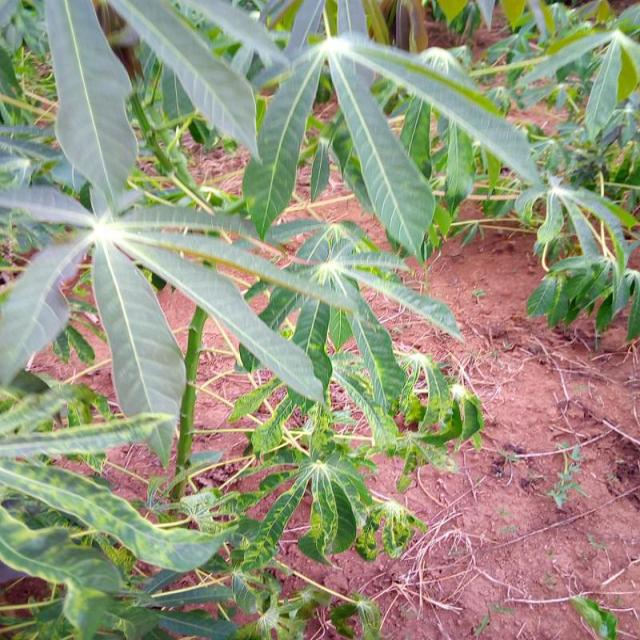Mosaico: (9, 408, 253, 640), (374, 354, 543, 478), (270, 434, 426, 559)
